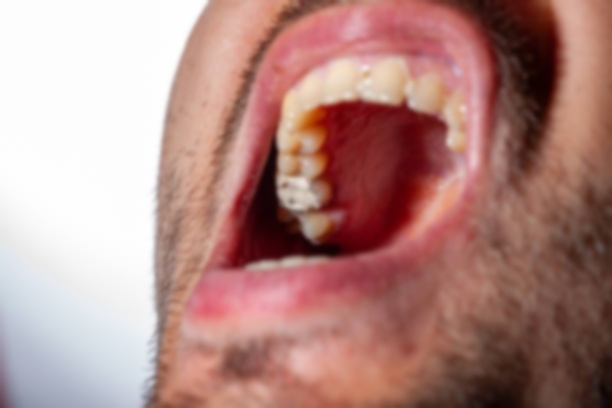Caries: (272, 172, 336, 218)
